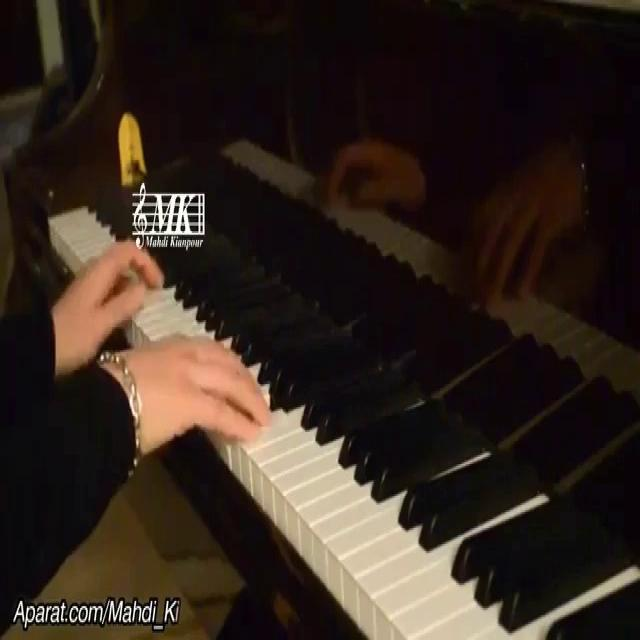Piano: (42, 166, 640, 638)
